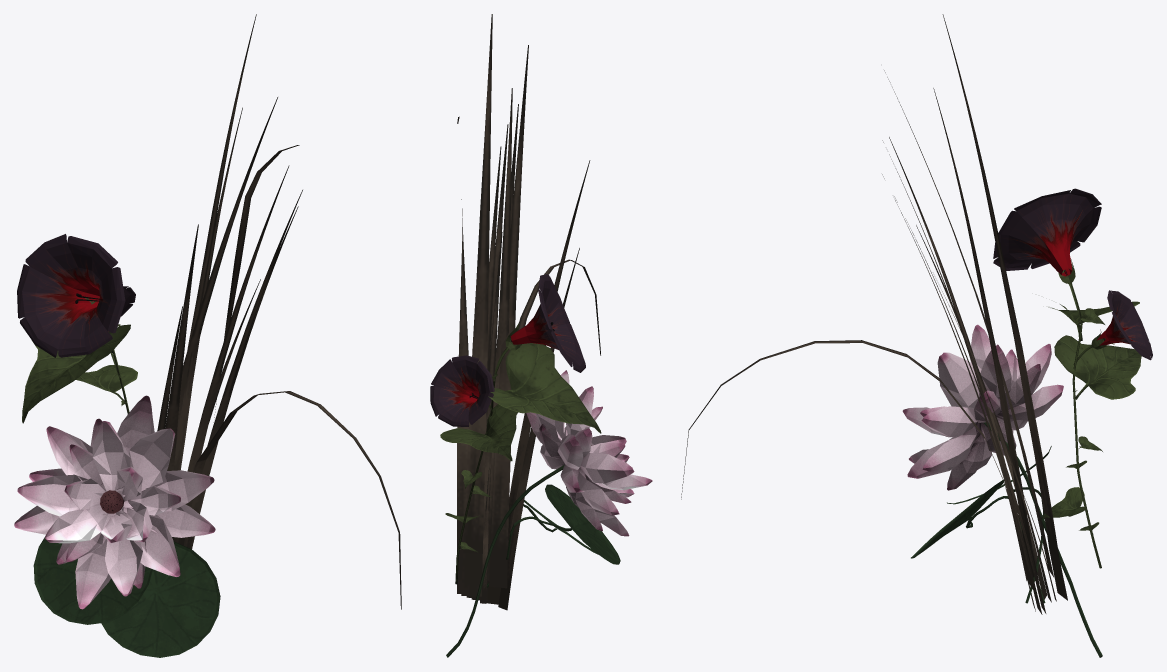
File: Flowers.gltf
3 views of the same model, side by side, from view 1: azimuth 30°, elevation 25°; view 2: azimuth 150°, elevation 25°; view 3: azimuth 270°, elevation 25° (orthographic). The views are drawn at different scales.
Parts seen in each view (by area): view 1: LotusBokay, BloodGrassBokay, LotusLily, AsagaoFlowers, AsagaoStem; view 2: BloodGrassBokay, LotusBokay, AsagaoStem, AsagaoFlowers, LotusLily; view 3: BloodGrassBokay, LotusBokay, AsagaoFlowers, AsagaoStem, LotusLily.
Boxes of the visible parts, x1,y1,x2,y2 form: LotusBokay: (14, 395, 215, 609); BloodGrassBokay: (157, 14, 401, 609); LotusLily: (33, 537, 220, 657); AsagaoFlowers: (17, 234, 135, 357); AsagaoStem: (22, 298, 137, 423); BloodGrassBokay: (457, 14, 600, 610); LotusBokay: (446, 370, 652, 657); AsagaoStem: (440, 323, 601, 584); AsagaoFlowers: (430, 274, 585, 426); LotusLily: (524, 484, 620, 564); BloodGrassBokay: (681, 14, 1067, 614); LotusBokay: (902, 324, 1102, 657); AsagaoFlowers: (993, 188, 1152, 360); AsagaoStem: (1040, 259, 1141, 568); LotusLily: (911, 446, 1051, 558).
Bounding box in the file's own units: 0.2516 × 0.6161 × 0.4005.
6 materials, 6 textured.
